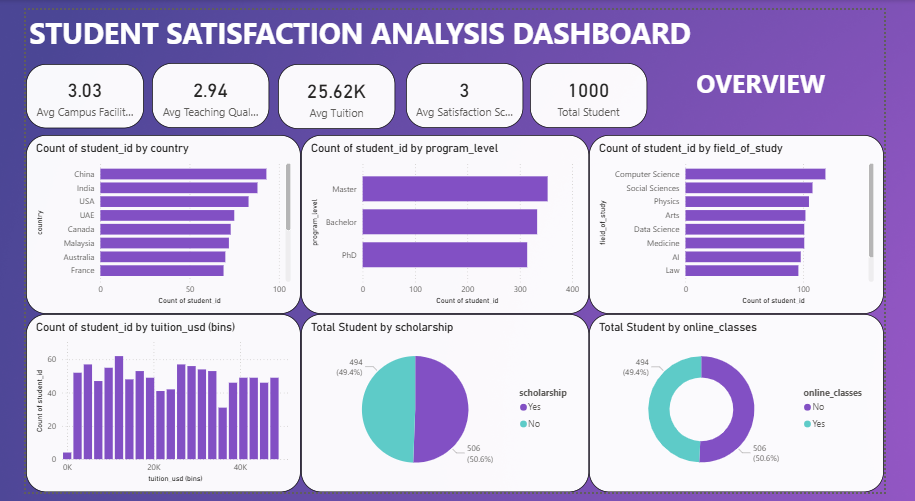

The dashboard page shown, as its layout file describes it:
{"tool":"powerbi","page":{"name":"Page 1","canvas":[1280,720],"ordinal":0},"visuals":[{"type":"card","fields":{"Values":["data mahasiswa.Avg Campus Facilities"]},"box":[0,80.6,176.1,95.5],"z":0},{"type":"card","fields":{"Values":["data mahasiswa.Avg Teaching Quality"]},"box":[188.1,79.1,174.6,97],"z":1000},{"type":"card","fields":{"Values":["data mahasiswa.Avg Tuition"]},"box":[376.1,80.6,174.6,97],"z":2000},{"type":"card","fields":{"Values":["data mahasiswa.Avg Satisfaction Score"]},"box":[567.2,79.1,174.6,97],"z":3000},{"type":"card","fields":{"Values":["data mahasiswa.Total Student"]},"box":[752.2,79.1,174.6,97],"z":4000},{"type":"barChart","fields":{"Category":["data mahasiswa.country"],"Y":["CountNonNull(data mahasiswa.student_id)"]},"box":[0,186.6,410.4,267.2],"z":5000},{"type":"barChart","fields":{"Category":["data mahasiswa.program_level"],"Y":["CountNonNull(data mahasiswa.student_id)"]},"box":[410.4,186.6,429.9,267.2],"z":6000},{"type":"barChart","fields":{"Category":["data mahasiswa.field_of_study"],"Y":["CountNonNull(data mahasiswa.student_id)"]},"box":[840.3,186.6,440.3,267.2],"z":7000},{"type":"columnChart","fields":{"Category":["data mahasiswa.tuition_usd (bins)"],"Y":["CountNonNull(data mahasiswa.student_id)"]},"box":[0,453.7,410.4,265.7],"z":8000},{"type":"pieChart","fields":{"Category":["data mahasiswa.scholarship"],"Y":["data mahasiswa.Total Student"]},"box":[410.4,453.7,429.9,265.7],"z":9000},{"type":"donutChart","fields":{"Category":["data mahasiswa.online_classes"],"Y":["data mahasiswa.Total Student"]},"box":[840.3,453.7,440.3,265.7],"z":10000},{"type":"textbox","box":[0,0,1020.9,80.6],"z":11000},{"type":"textbox","box":[995.5,79.1,210.4,64.2],"z":12000}]}

Visuals, with their boxes in screenshot pixels (x1, y1, x2, y2), scaled from the page's 1280x720 canvas onto the 915x501 screenshot:
card - data mahasiswa.Avg Campus Facilities: x1=0 y1=56 x2=126 y2=123
card - data mahasiswa.Avg Teaching Quality: x1=134 y1=55 x2=259 y2=123
card - data mahasiswa.Avg Tuition: x1=269 y1=56 x2=394 y2=124
card - data mahasiswa.Avg Satisfaction Score: x1=405 y1=55 x2=530 y2=123
card - data mahasiswa.Total Student: x1=538 y1=55 x2=663 y2=123
barChart - data mahasiswa.country x CountNonNull(data mahasiswa.student_id): x1=0 y1=130 x2=293 y2=316
barChart - data mahasiswa.program_level x CountNonNull(data mahasiswa.student_id): x1=293 y1=130 x2=601 y2=316
barChart - data mahasiswa.field_of_study x CountNonNull(data mahasiswa.student_id): x1=601 y1=130 x2=914 y2=316
columnChart - data mahasiswa.tuition_usd (bins) x CountNonNull(data mahasiswa.student_id): x1=0 y1=316 x2=293 y2=500
pieChart - data mahasiswa.scholarship x data mahasiswa.Total Student: x1=293 y1=316 x2=601 y2=500
donutChart - data mahasiswa.online_classes x data mahasiswa.Total Student: x1=601 y1=316 x2=914 y2=500
textbox: x1=0 y1=0 x2=730 y2=56
textbox: x1=712 y1=55 x2=862 y2=100
